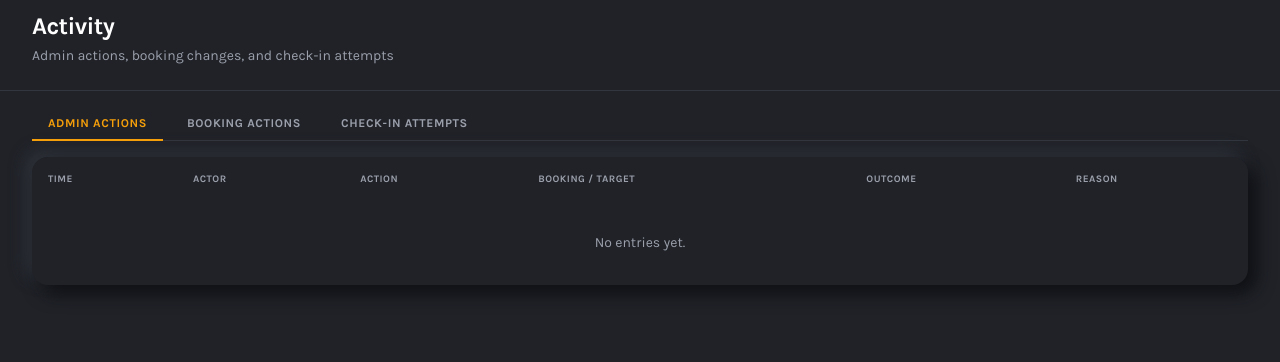
Test: AdminAuditLog — tabs, buttons, and idempotency-aware copy › "Check-in attempts" tab labels first success vs replay distinctly (idempotency proof)
The image size is (1280, 362).
Click the button "Check-in attempts" at {"x": 404, "y": 124}, box [325,107,484,141]
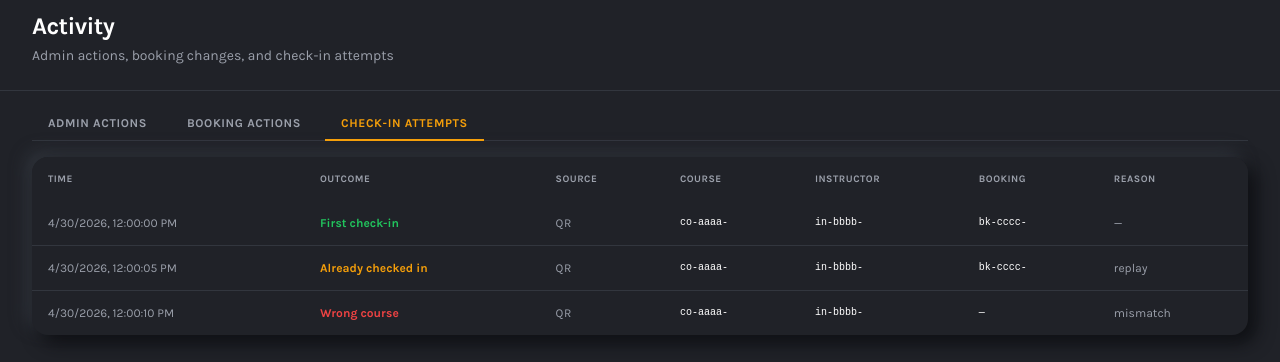
Now the text "First check-in" is shown, box [304,201,540,246]
Now the text "Already checked in" is shown, box [304,246,540,290]
Now the text "Wrong course" is shown, box [304,290,540,335]
